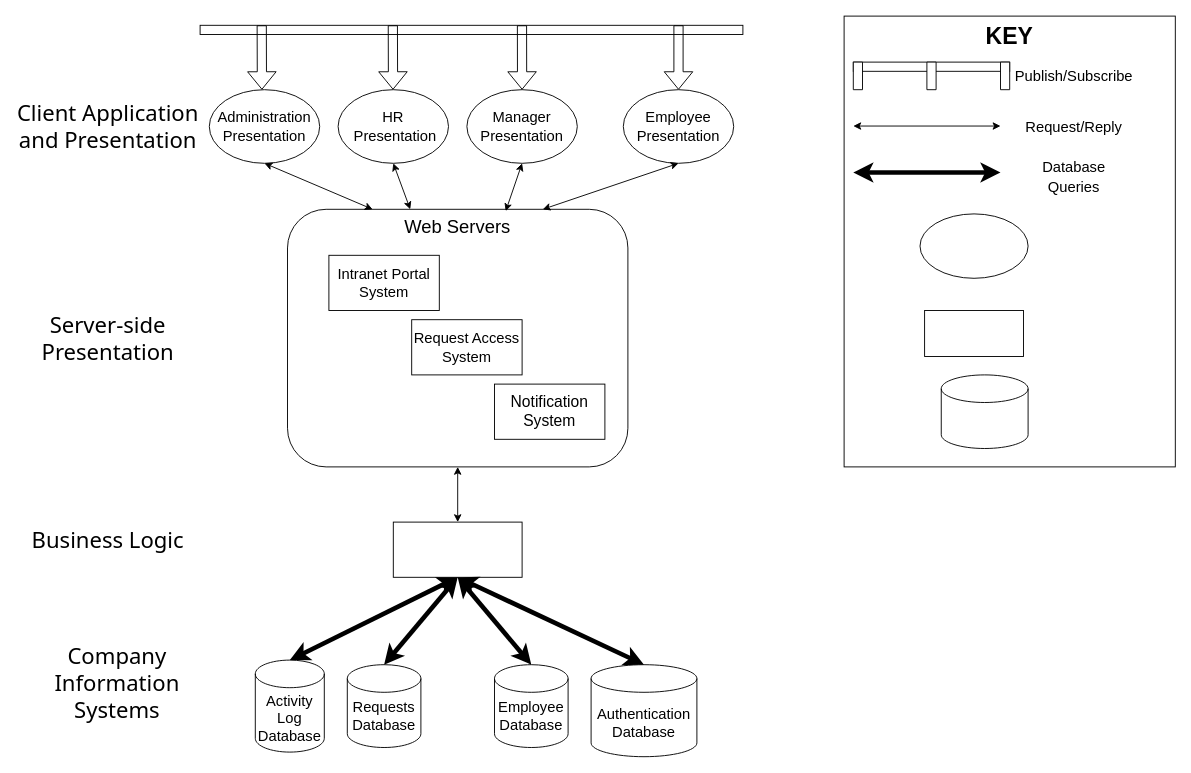
Some shapes in this 1191 by 773 pixel diagram are drawn without their labels. The centre of each missing label's shape, as x and y in pixels:
Client: pixel 973 245
Repository: pixel 984 411
Rule-based Validation System: pixel 457 549
Server: pixel 974 333
